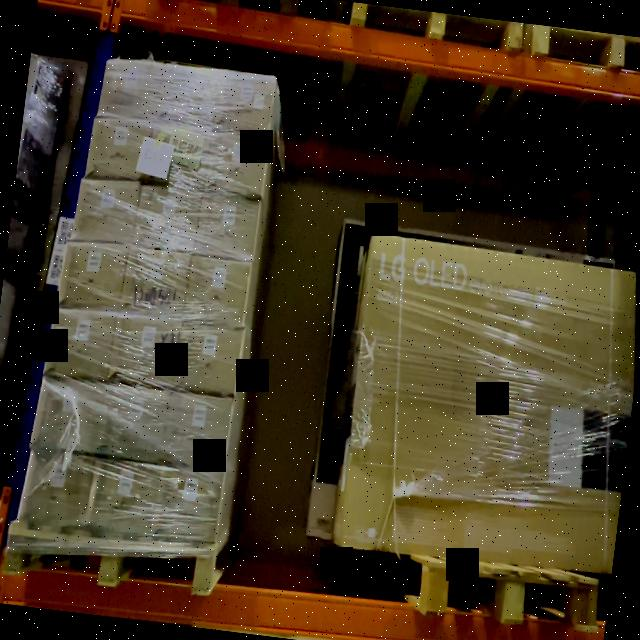box: (334, 247, 630, 571), (21, 449, 94, 528), (34, 378, 105, 452), (101, 384, 170, 460), (91, 462, 159, 537), (156, 467, 223, 543), (165, 393, 232, 466), (176, 324, 244, 394), (113, 316, 180, 386), (123, 248, 191, 316), (48, 309, 114, 379), (59, 240, 125, 310), (196, 193, 261, 260), (204, 132, 270, 196), (135, 186, 201, 250), (187, 259, 249, 326), (154, 66, 218, 128), (74, 179, 136, 242), (89, 117, 150, 181), (215, 74, 275, 136), (146, 126, 208, 185), (102, 60, 158, 121)
